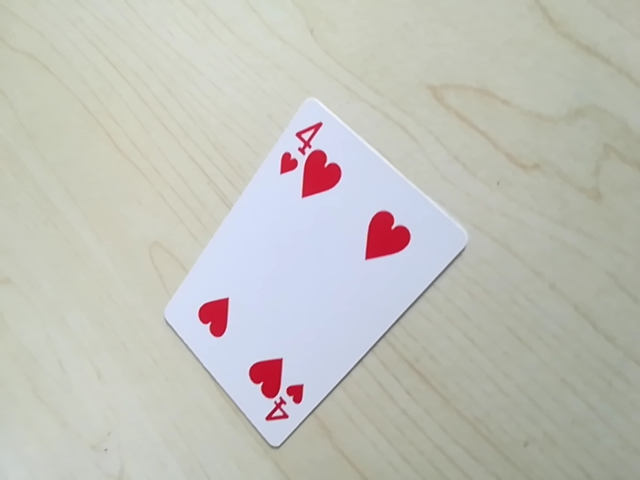hx 4: (276, 113, 332, 196), (254, 381, 306, 433)
